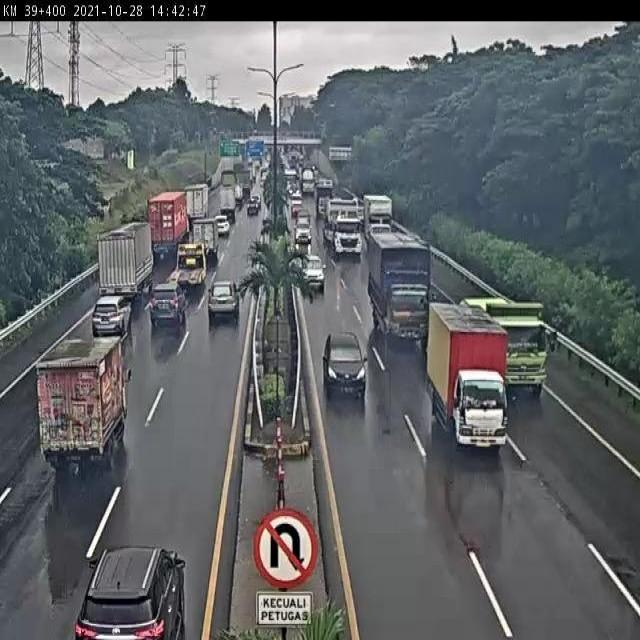big truck: (146, 188, 190, 259)
car: (74, 550, 185, 640), (324, 334, 367, 394), (148, 283, 186, 328), (90, 296, 131, 336), (206, 280, 241, 320), (301, 253, 326, 295)
mid truck: (168, 243, 208, 288)
small truck: (193, 214, 218, 258)
truck-l-: (459, 294, 549, 398), (369, 239, 428, 348), (364, 195, 395, 245)
truck-m-: (36, 336, 129, 469), (428, 303, 508, 452), (97, 224, 156, 297)
truck-xl-: (327, 198, 364, 254)
